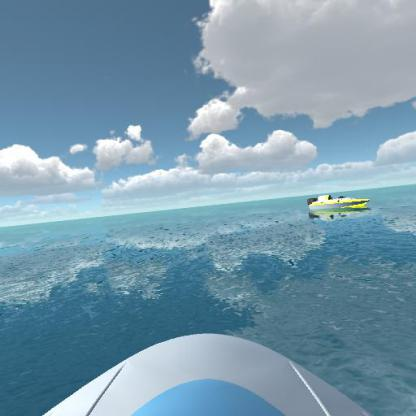usv2: (302, 188, 373, 216)
